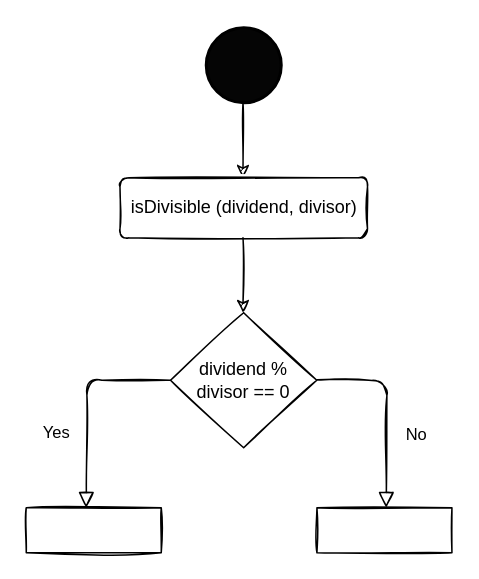
This 479x579 diagram has some shape labels left out. The shapes that lost their labels are listed below. From the top down, each one's centre as x and y in pixels, then its label:
[93,529]: return "true"
[383,529]: return "false"
